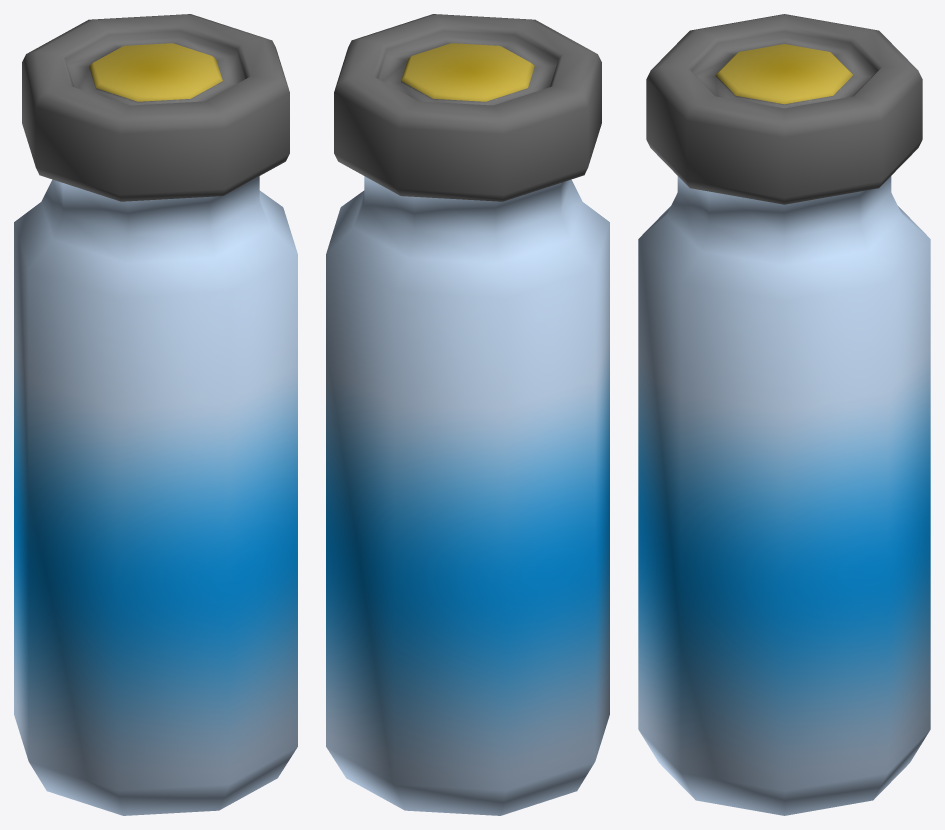
Rendered from VialSealed.fbx.
3 renders of one model, left to right at view 1: azimuth 30°, elevation 25°; view 2: azimuth 150°, elevation 25°; view 3: azimuth 270°, elevation 25°, orthographic.
Parts seen in each view (by area): view 1: Ampule; view 2: Ampule; view 3: Ampule.
Boxes of the visible parts, x1,y1,x2,y2 form: Ampule: [14, 14, 297, 815]; Ampule: [326, 14, 609, 815]; Ampule: [638, 14, 930, 815].
Size of the model in its own units: 0.0202 by 0.0529 by 0.0202.
